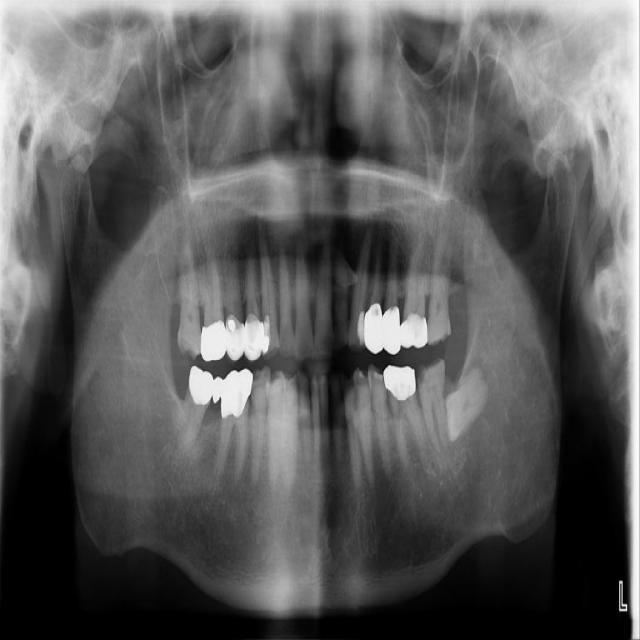52: (187, 365, 254, 421), (363, 302, 429, 355), (244, 312, 270, 363), (383, 364, 416, 404), (198, 321, 229, 362), (348, 298, 370, 352), (262, 302, 279, 361), (225, 315, 245, 361)
73: (620, 600, 624, 608)
BioHorizons Implant: (425, 214, 454, 347)
Biomet 3i Implant: (425, 361, 505, 444)
Blue Sky Bio Implant: (417, 357, 448, 455)
Caries: (175, 241, 207, 361)
Implant: (212, 376, 223, 404)
Keystone Dental Implant: (168, 365, 219, 454)
